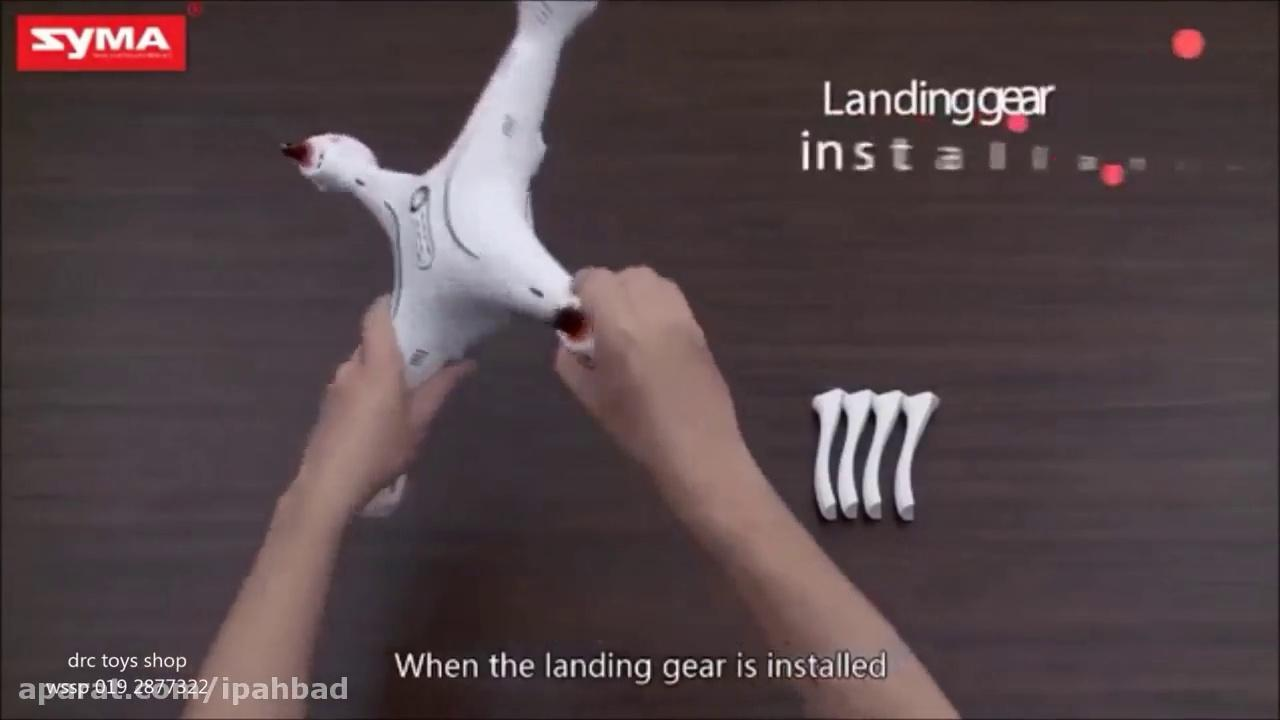drone: (276, 0, 602, 359)
